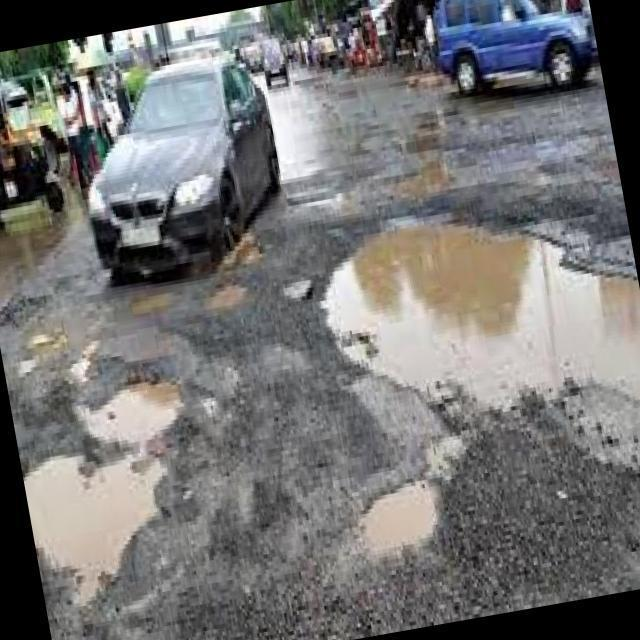Pothole: (321, 223, 640, 410), (25, 380, 182, 602)
